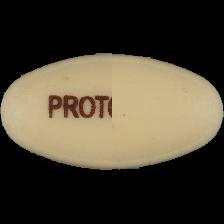55154-4233: (0, 0, 224, 224)
